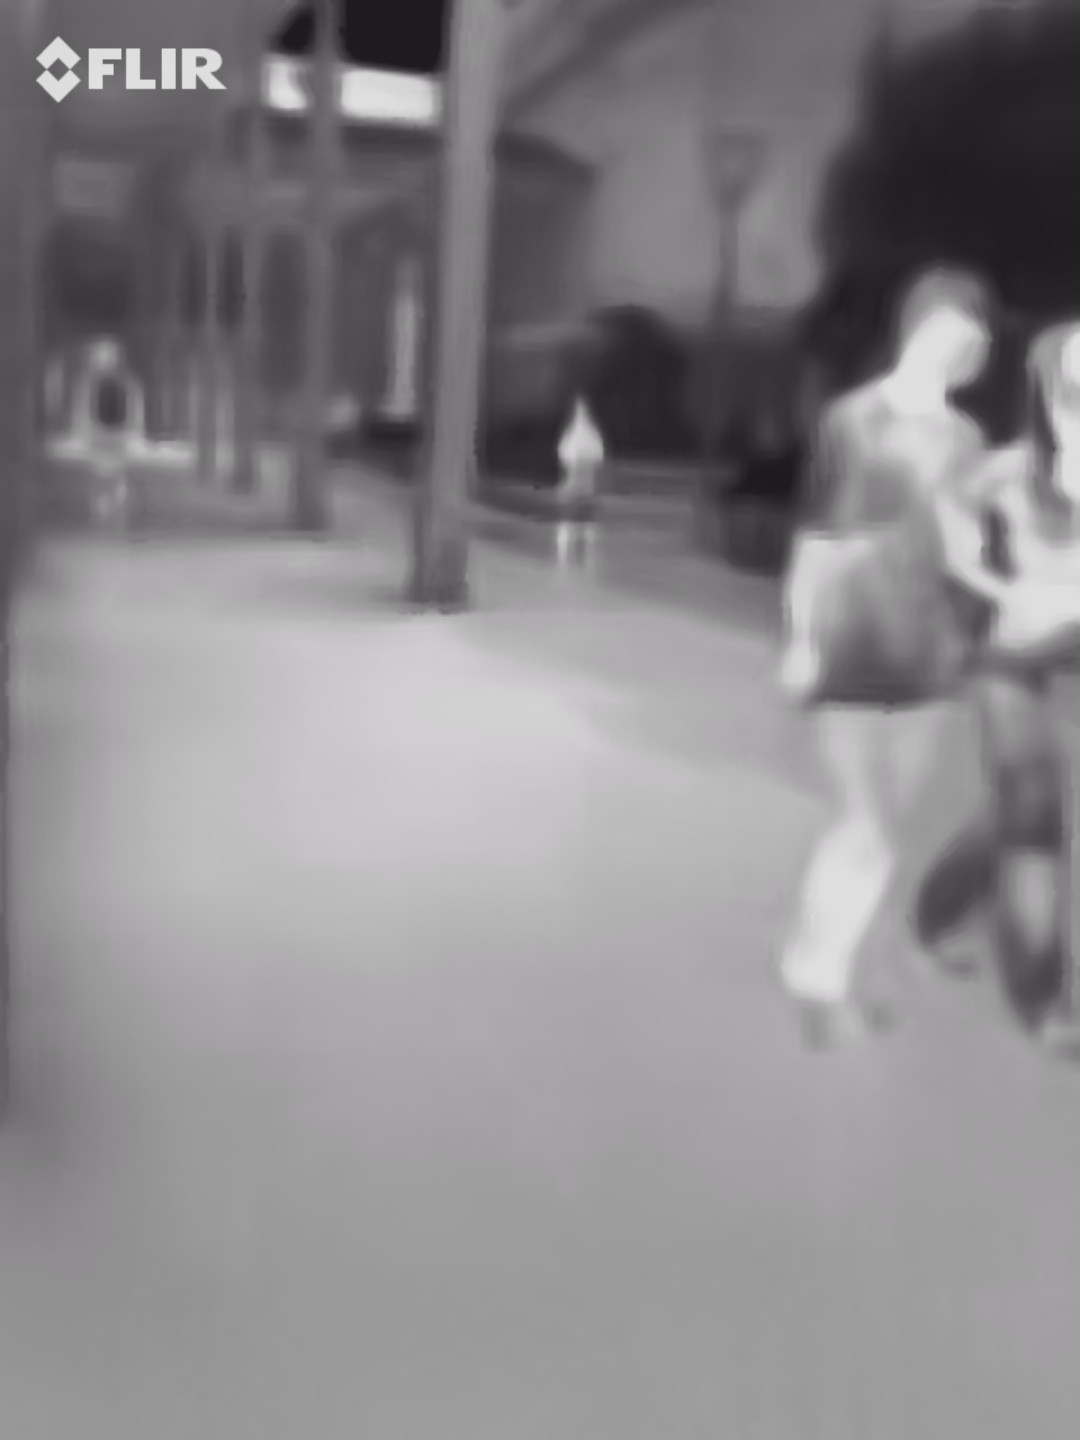head: (891, 265, 998, 392)
